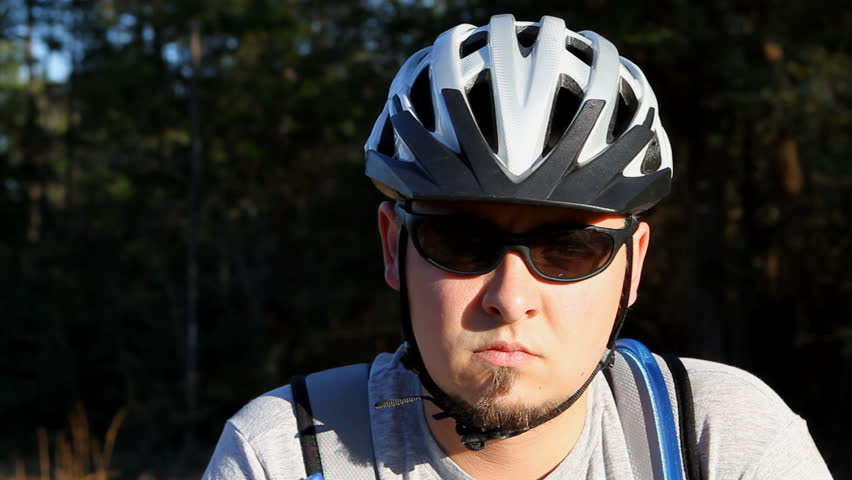helmet: (361, 14, 674, 435)
